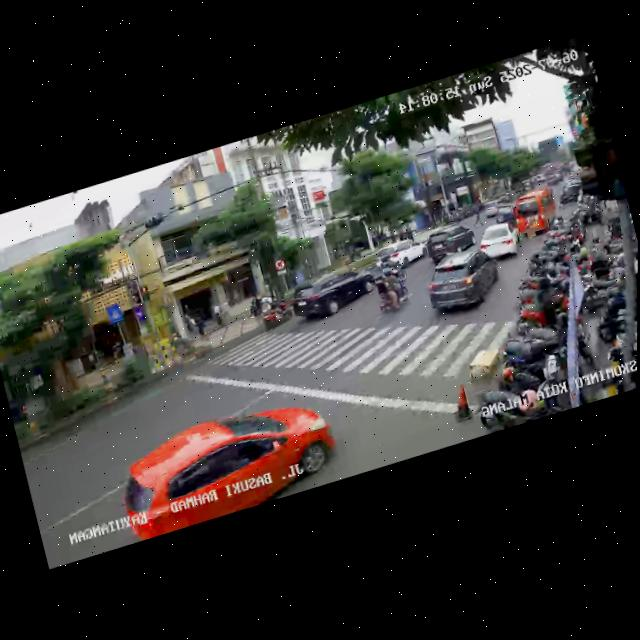car: (108, 383, 344, 544), (420, 245, 506, 324), (289, 260, 379, 330), (509, 183, 561, 242), (420, 217, 479, 266), (474, 216, 523, 267), (372, 232, 426, 274), (554, 176, 586, 207), (478, 197, 507, 223)
motorcycle: (368, 261, 412, 319), (256, 290, 292, 332)
